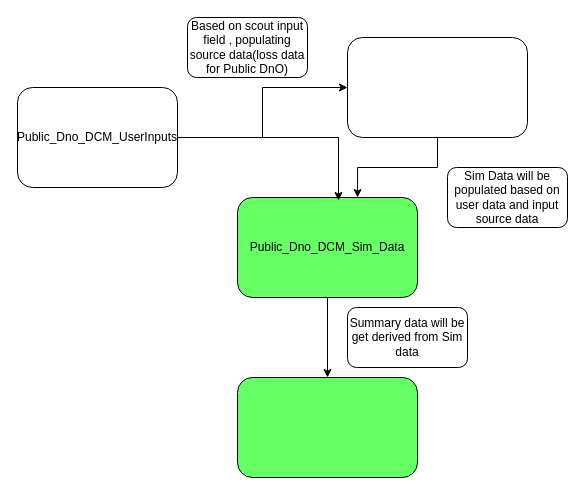
Image size: 585x495. Some labels were removed from this diagram. The box of each missing label's shape, as (x1, y1, x2, y2) in pixels:
Public_Dno_DCM_Source_Data: (346, 36, 528, 138)
Public_Dno_DCM_Summary_Data: (236, 376, 418, 478)
